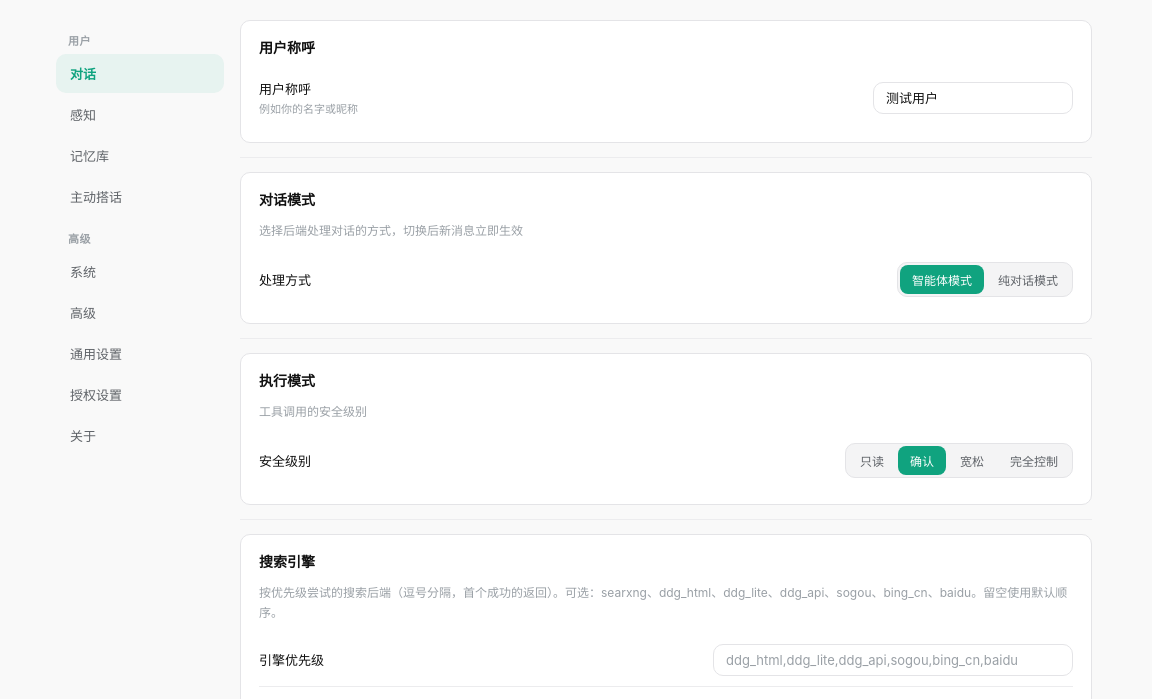
Test: Settings.vue › 加载并渲染记忆库列表
The image size is (1152, 699).
Click the text with class "settings-tab" showing "记忆库" at {"x": 90, "y": 156}, box [70,148,109,164]
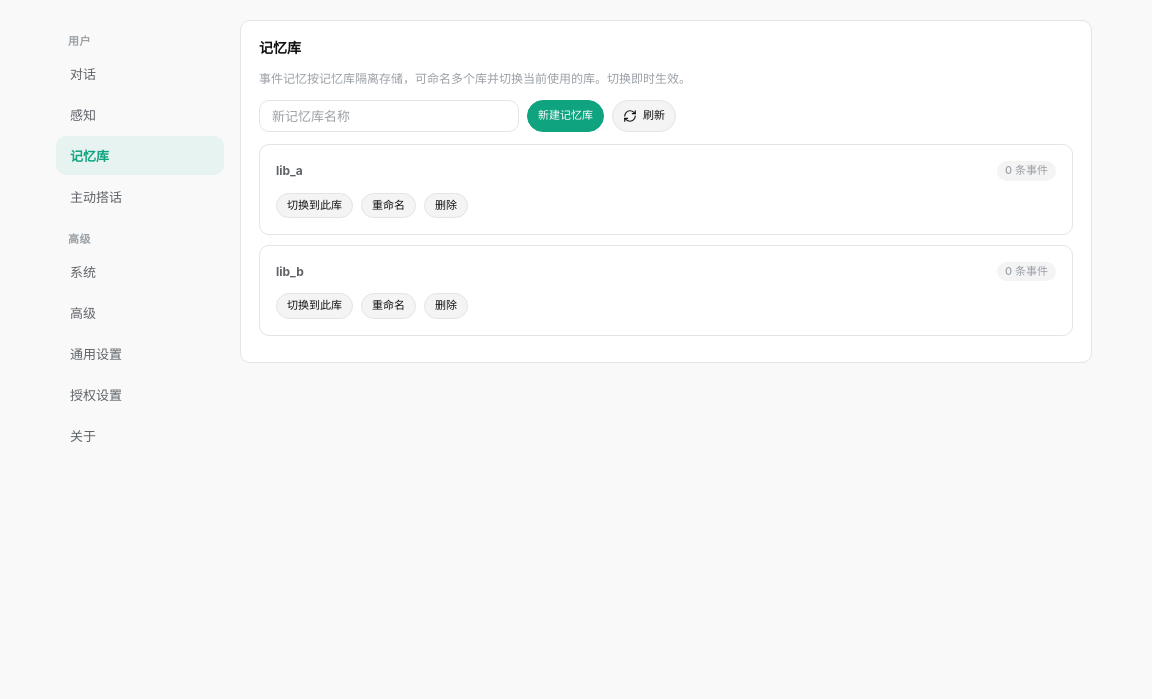
Now the text "lib_a" is shown, box [276,163,303,178]
Now the text "lib_b" is shown, box [276,264,304,279]
